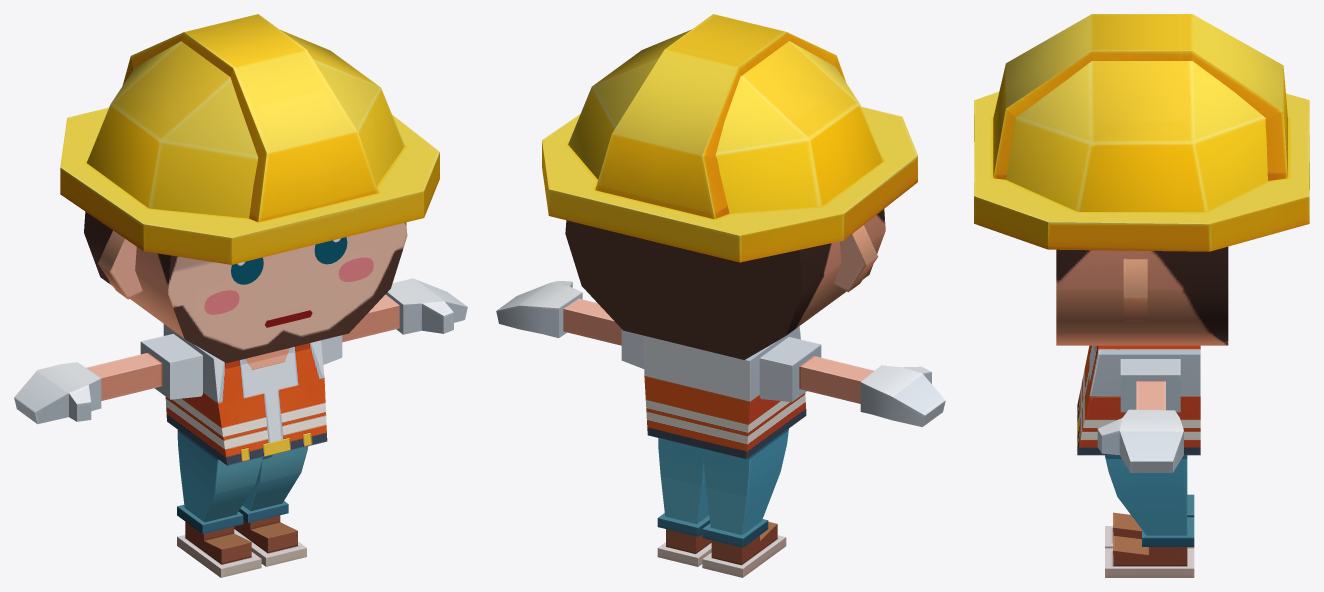
File: 宝宝学汉字-角色-NPC工程管理员.FBX
3 views of the same model, side by side, from view 1: azimuth 30°, elevation 25°; view 2: azimuth 150°, elevation 25°; view 3: azimuth 270°, elevation 25° (orthographic). The views are drawn at different scales.
Visible parts, largest first — view 1: 宝宝学汉字-角色-NPC工程管理员; view 2: 宝宝学汉字-角色-NPC工程管理员; view 3: 宝宝学汉字-角色-NPC工程管理员.
Boxes of the visible parts, x1,y1,x2,y2 form: 宝宝学汉字-角色-NPC工程管理员: (14, 14, 467, 577); 宝宝学汉字-角色-NPC工程管理员: (496, 14, 945, 577); 宝宝学汉字-角色-NPC工程管理员: (974, 14, 1309, 577).
Bounding box in the file's own units: 88.48 × 100 × 58.14.
Materials: 1 (1 with a texture image).
